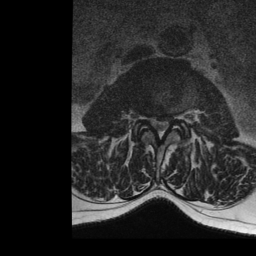CCS_normal: (156, 110, 163, 144)
LFS_stenosis: (170, 105, 178, 129)
LLS_stenosis: (163, 110, 171, 137)
RFS_stenosis: (142, 105, 149, 130)
RLS_normal: (149, 108, 156, 134)
